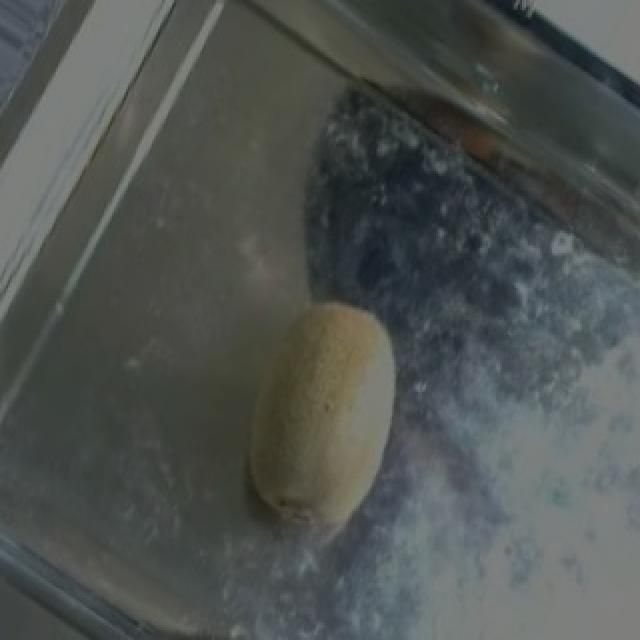Fruit: (210, 263, 424, 548)
